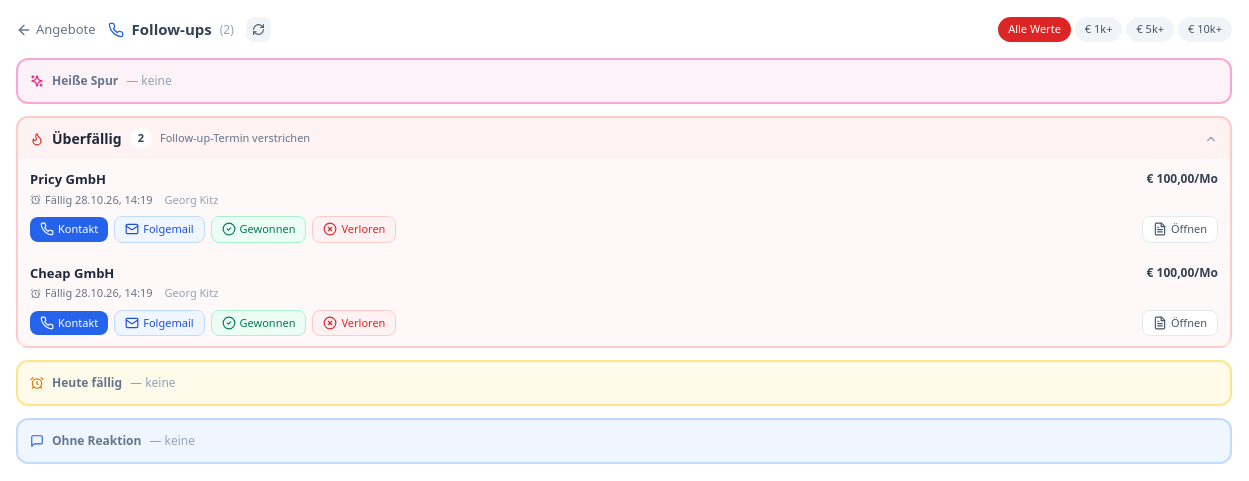
it: FollowUpsPage › value filter hides offers below the chosen floor
Expected: the text "Cheap GmbH" is shown, [30, 264, 114, 283]
Click the button "€ 5k+".
click(1150, 30)  # box [1126, 17, 1174, 42]
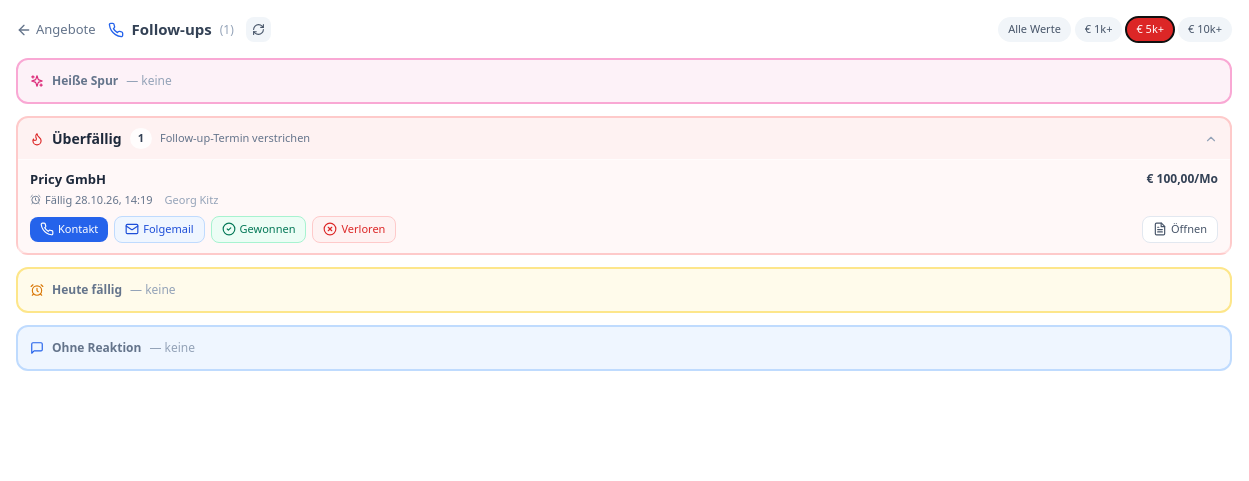
Expected: the text "Pricy GmbH" is shown, [30, 170, 106, 190]
Expected: the text "Cheap GmbH" is gone
